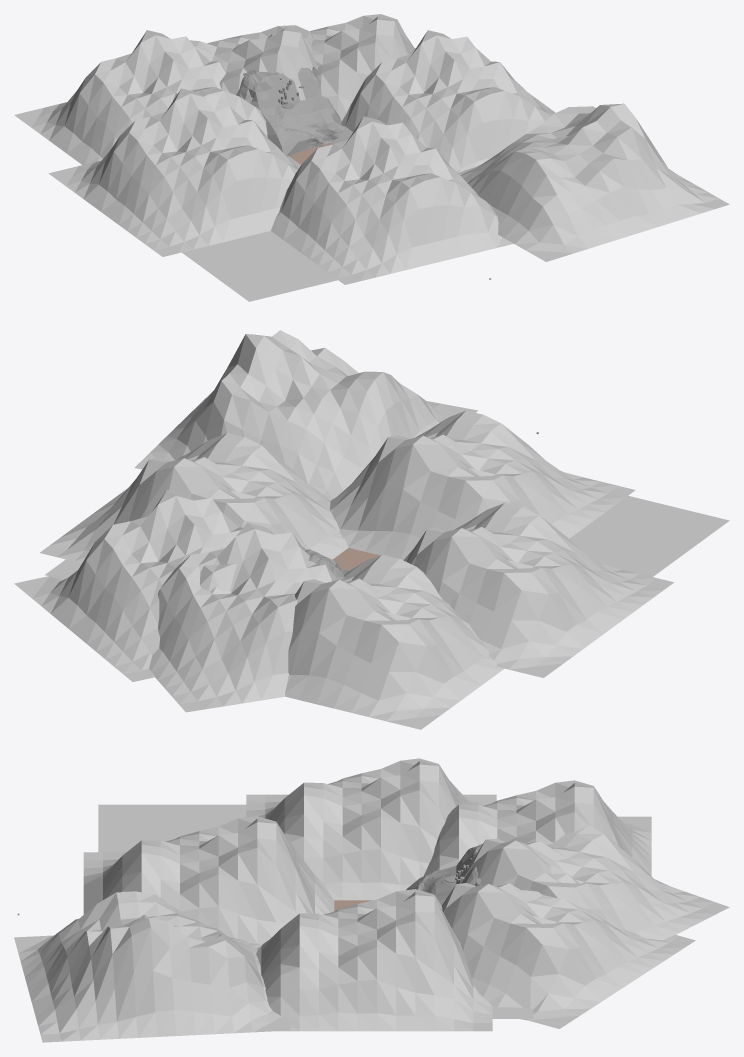
Rendered from terrain.obj.
3 renders of one model, top to bottom at view 1: azimuth 30°, elevation 25°; view 2: azimuth 150°, elevation 25°; view 3: azimuth 270°, elevation 25°, orthographic. The views are drawn at different scales.
Visible parts, largest first — view 1: Landscape.000_Landscape.007, Landscape.006, Landscape.002_Landscape.009, Landscape.001_Landscape.008, Landscape.003_Landscape.011, gras_Plane.002, Landscape.004_Landscape.012, Berg_Plane, Landscape.005_Landscape.013; view 2: Landscape.003_Landscape.011, Landscape.006, Landscape.002_Landscape.009, Landscape.000_Landscape.007, Landscape.005_Landscape.013, Landscape.004_Landscape.012, Landscape.001_Landscape.008, gras_Plane.002; view 3: Landscape.002_Landscape.009, Landscape.001_Landscape.008, Landscape.004_Landscape.012, Landscape.006, Landscape.000_Landscape.007, Landscape.005_Landscape.013, Landscape.003_Landscape.011, gras_Plane.002, Berg_Plane.
Part boxes in pixels (x1=…): Landscape.000_Landscape.007: x1=271, y1=116, x2=513, y2=284; Landscape.006: x1=48, y1=88, x2=300, y2=256; Landscape.002_Landscape.009: x1=458, y1=103, x2=729, y2=261; Landscape.001_Landscape.008: x1=332, y1=30, x2=555, y2=172; Landscape.003_Landscape.011: x1=14, y1=30, x2=267, y2=164; gras_Plane.002: x1=182, y1=231, x2=491, y2=301; Landscape.004_Landscape.012: x1=268, y1=14, x2=415, y2=121; Berg_Plane: x1=236, y1=67, x2=344, y2=156; Landscape.005_Landscape.013: x1=189, y1=25, x2=318, y2=146; Landscape.003_Landscape.011: x1=285, y1=554, x2=503, y2=729; Landscape.006: x1=403, y1=503, x2=673, y2=677; Landscape.002_Landscape.009: x1=134, y1=330, x2=477, y2=499; Landscape.000_Landscape.007: x1=330, y1=410, x2=635, y2=559; Landscape.005_Landscape.013: x1=149, y1=522, x2=337, y2=712; Landscape.004_Landscape.012: x1=14, y1=490, x2=242, y2=681; Landscape.001_Landscape.008: x1=40, y1=433, x2=348, y2=563; gras_Plane.002: x1=45, y1=432, x2=729, y2=579; Landscape.002_Landscape.009: x1=14, y1=891, x2=291, y2=1042; Landscape.001_Landscape.008: x1=256, y1=889, x2=492, y2=1031; Landscape.004_Landscape.012: x1=442, y1=863, x2=695, y2=1028; Landscape.006: x1=246, y1=758, x2=496, y2=900; Landscape.000_Landscape.007: x1=83, y1=816, x2=334, y2=944; Landscape.005_Landscape.013: x1=459, y1=825, x2=729, y2=940; Landscape.003_Landscape.011: x1=424, y1=780, x2=651, y2=875; gras_Plane.002: x1=17, y1=804, x2=533, y2=1018; Berg_Plane: x1=406, y1=844, x2=482, y2=905.
Size of the model in its own units: 765 by 172 by 914.
